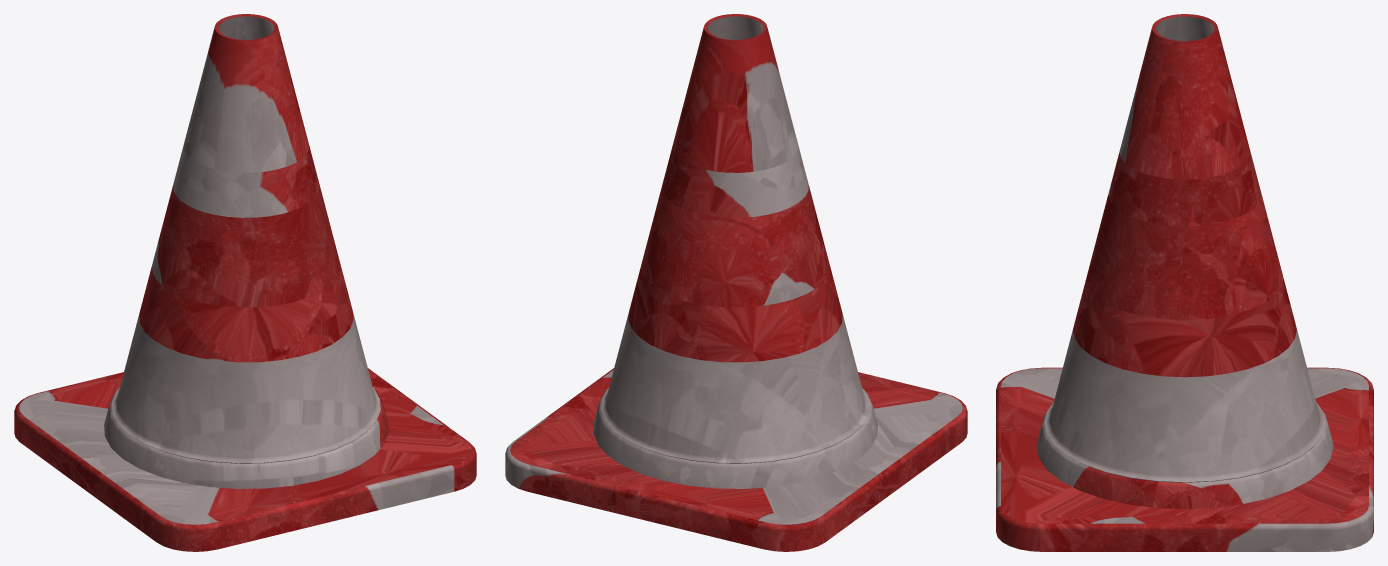
File: Cono.fbx
The picture shows the model from 3 angles, left to right: view 1: azimuth 30°, elevation 25°; view 2: azimuth 150°, elevation 25°; view 3: azimuth 270°, elevation 25°; orthographic projection. The views are drawn at different scales.
Visible parts, largest first — view 1: Cono; view 2: Cono; view 3: Cono.
Part boxes in pixels (x1,y1,x2,y2): Cono: (14,14,476,551); Cono: (505,14,967,551); Cono: (996,14,1373,551).
Size of the model in its own units: 45.89 by 45.89 by 59.58.
